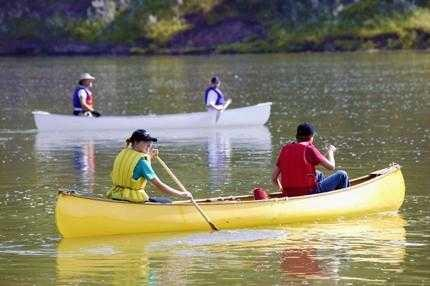kayak: (56, 166, 409, 238), (33, 103, 273, 142)
